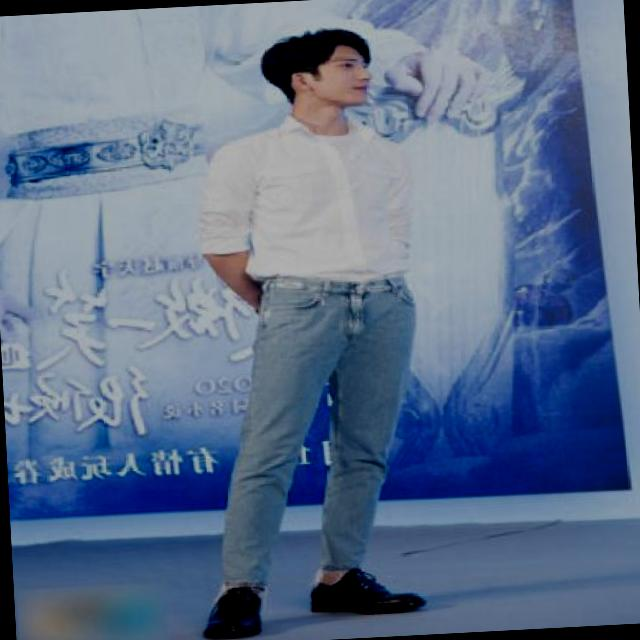Person: (180, 24, 432, 640)
